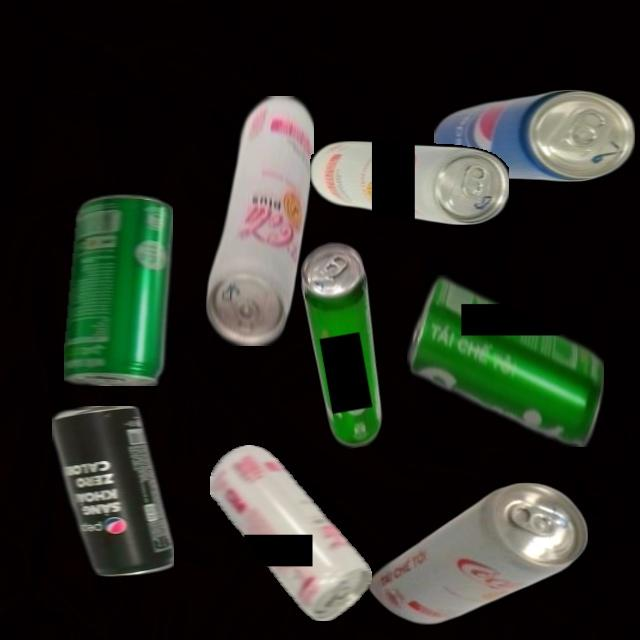debris: (406, 274, 604, 447), (366, 482, 588, 625), (210, 444, 372, 621), (204, 95, 314, 346), (295, 237, 396, 452), (63, 194, 173, 386), (51, 406, 174, 577), (433, 89, 635, 182), (309, 141, 509, 225)
